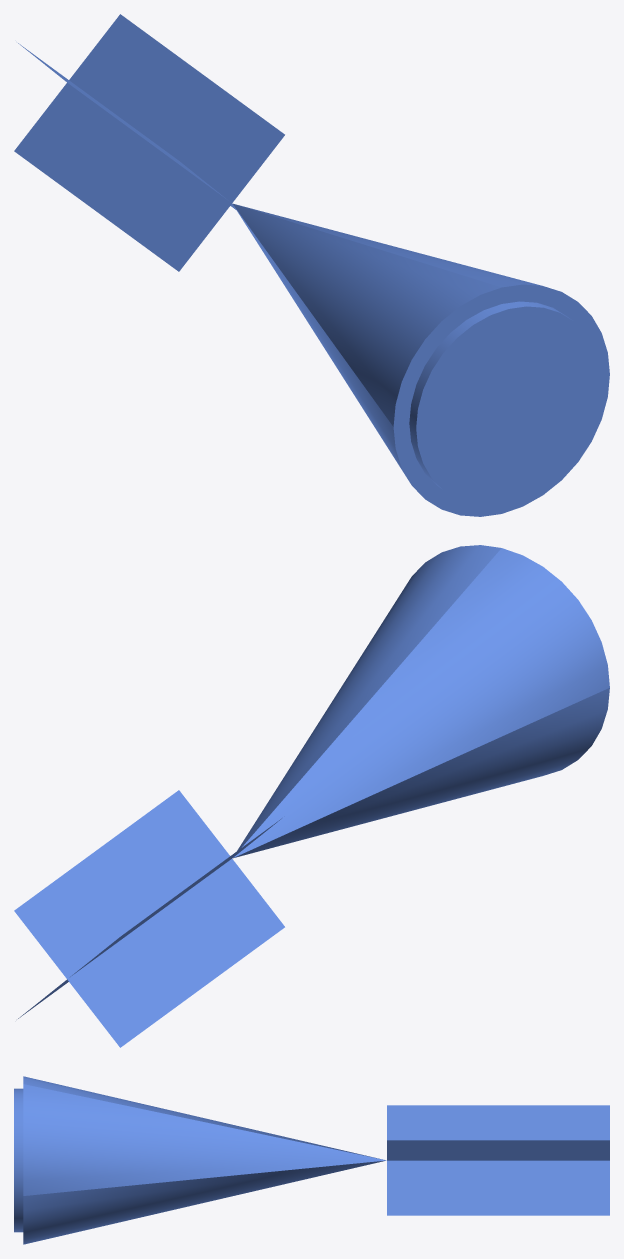
The model's file is tail1.fbx.
3 views of the same model, one above another, from view 1: azimuth 30°, elevation 25°; view 2: azimuth 150°, elevation 25°; view 3: azimuth 270°, elevation 25° (orthographic). The views are drawn at different scales.
Visible parts, largest first — view 1: Cone; view 2: Cone; view 3: Cone.
Boxes of the visible parts, <box> form: Cone: <box>14,14,609,516</box>; Cone: <box>14,545,609,1047</box>; Cone: <box>14,1076,609,1244</box>.
Size of the model in its own units: 120 by 120 by 424.
